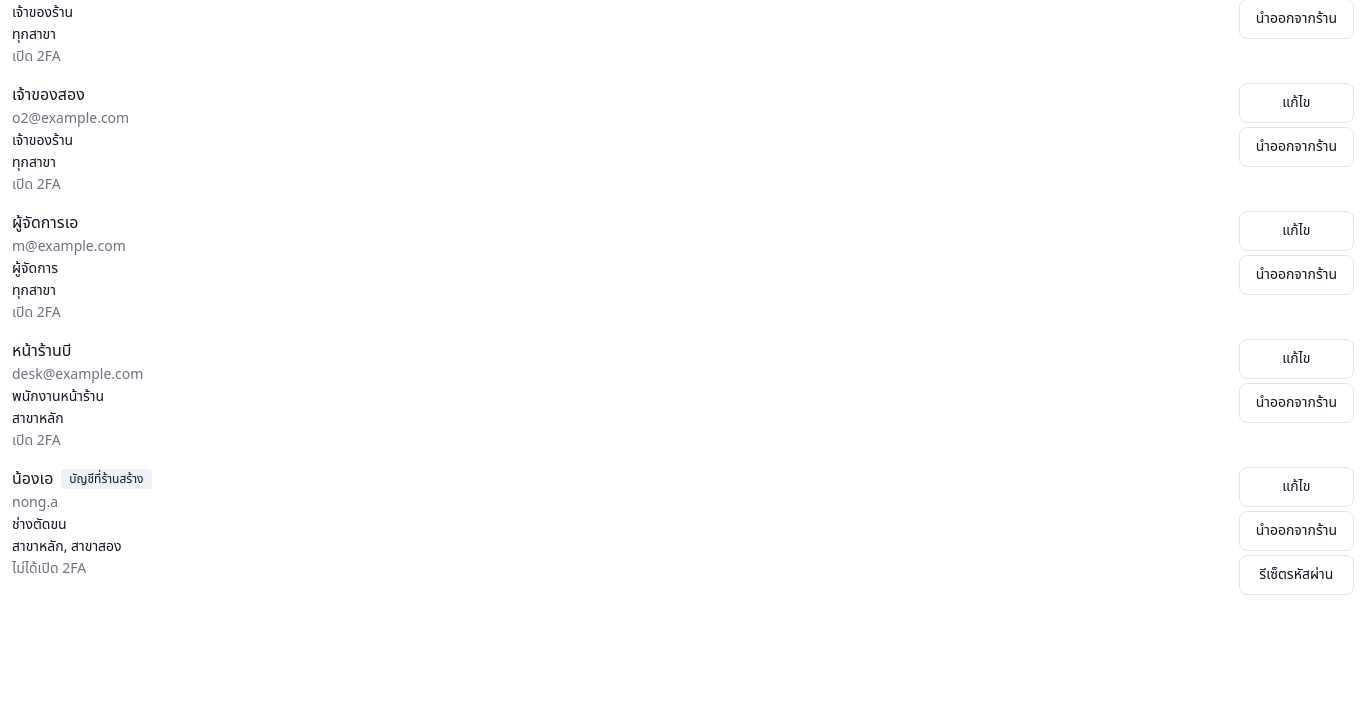
Scenario: edit (#contract-staff-update) › sends only the changed display name (trimmed) → 200 → refetch, dialog closes
Expected: the text "น้องเอ" is shown, [12,467,53,491]
Click the button "แก้ไข" in the row of "น้องเอ" at x=1296, y=487, box [1239,467,1354,507]
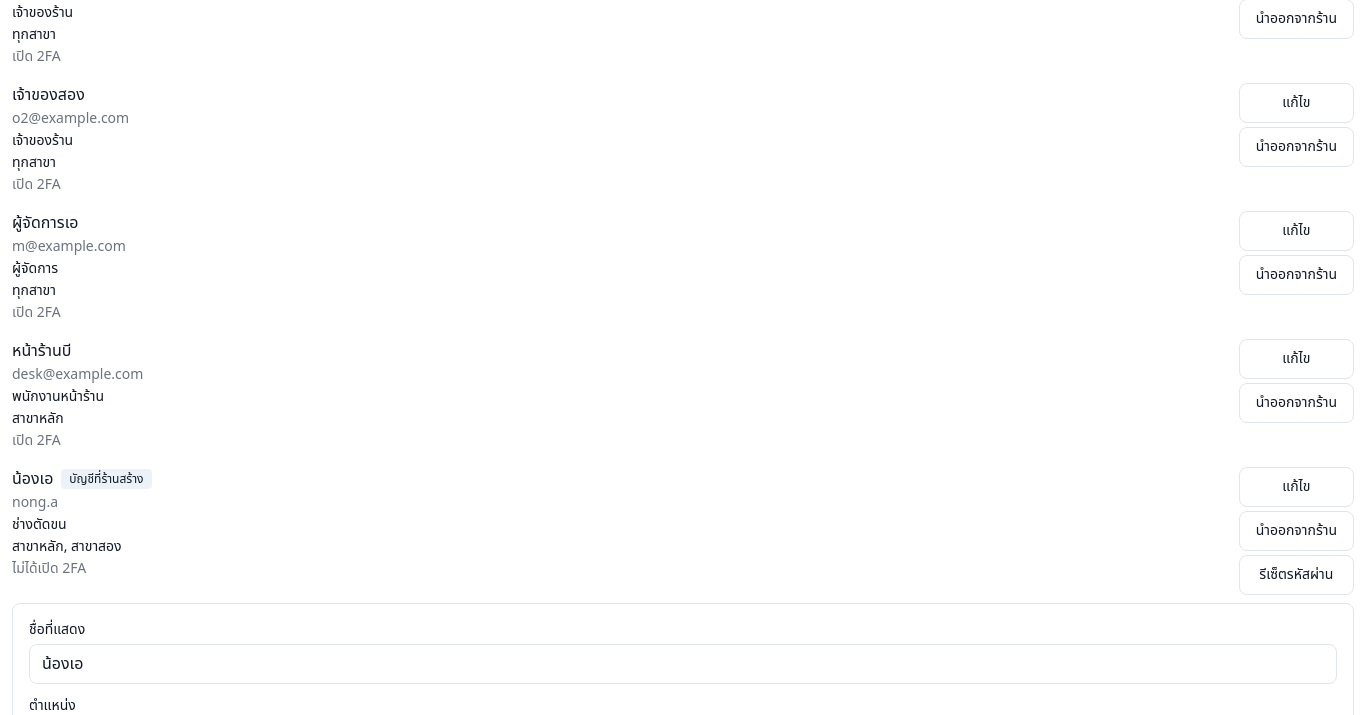
Replace the text in the field labelled "ชื่อที่แสดง" with "  น้องเอเอ " at x=683, y=664, box [29,644,1337,684]
(page scrolled)
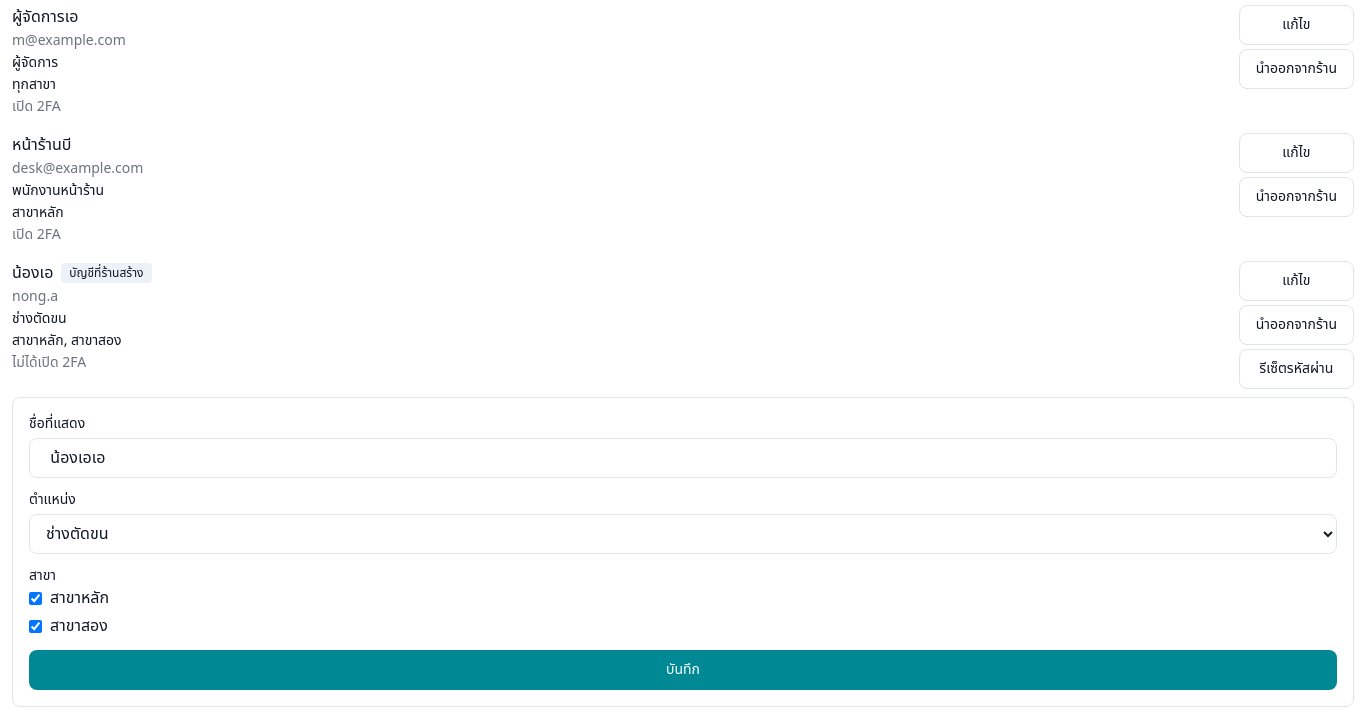
Click the button "บันทึก" at x=683, y=670, box [29,650,1337,690]
(page scrolled)
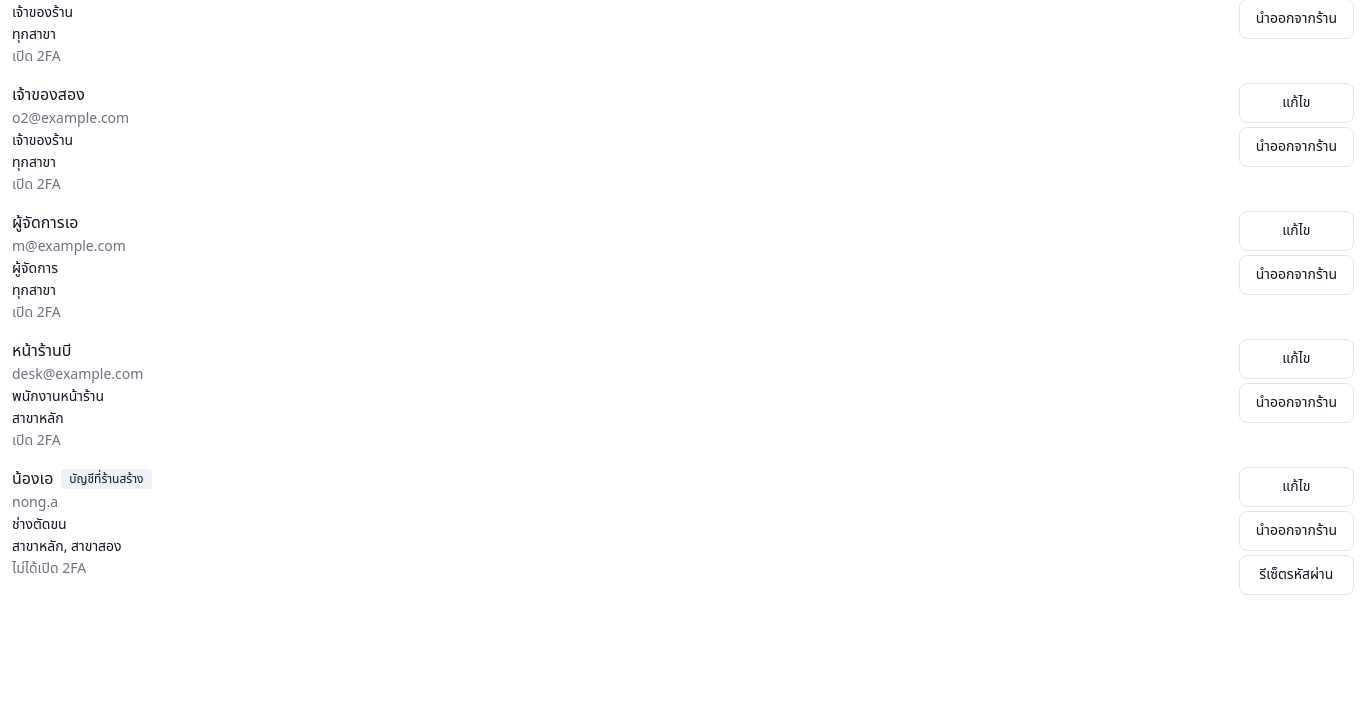
Expected: the dialog is gone
